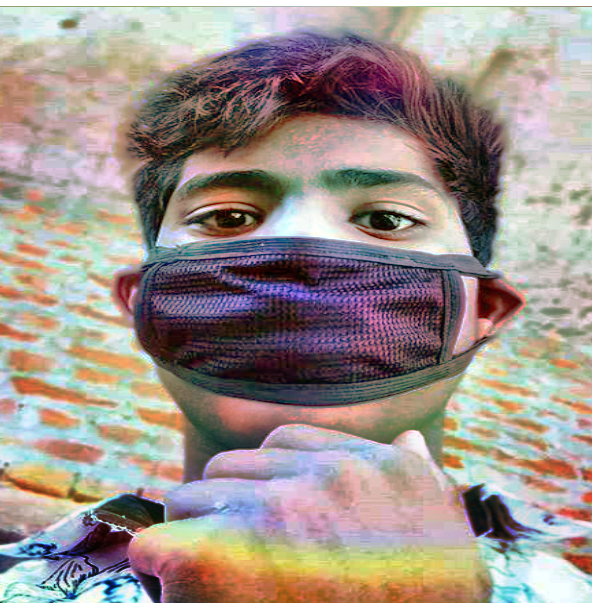mask_weared_incorrect: (111, 34, 517, 457)
